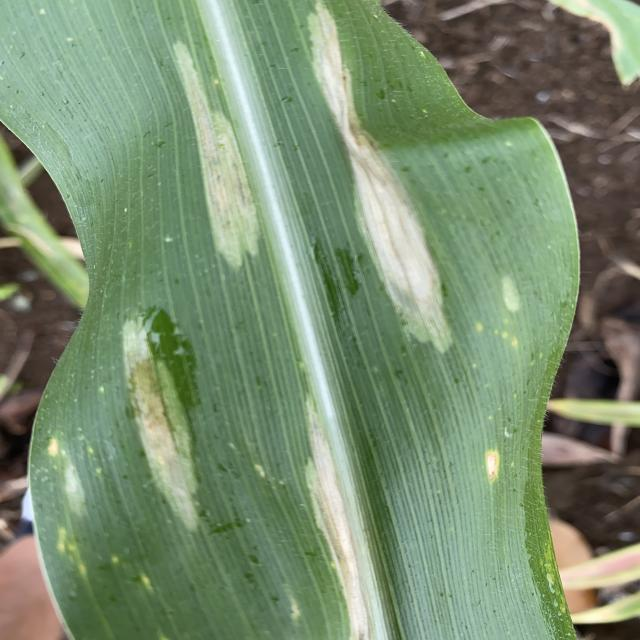Corn_Leaf_Blight: (59, 8, 566, 640)
